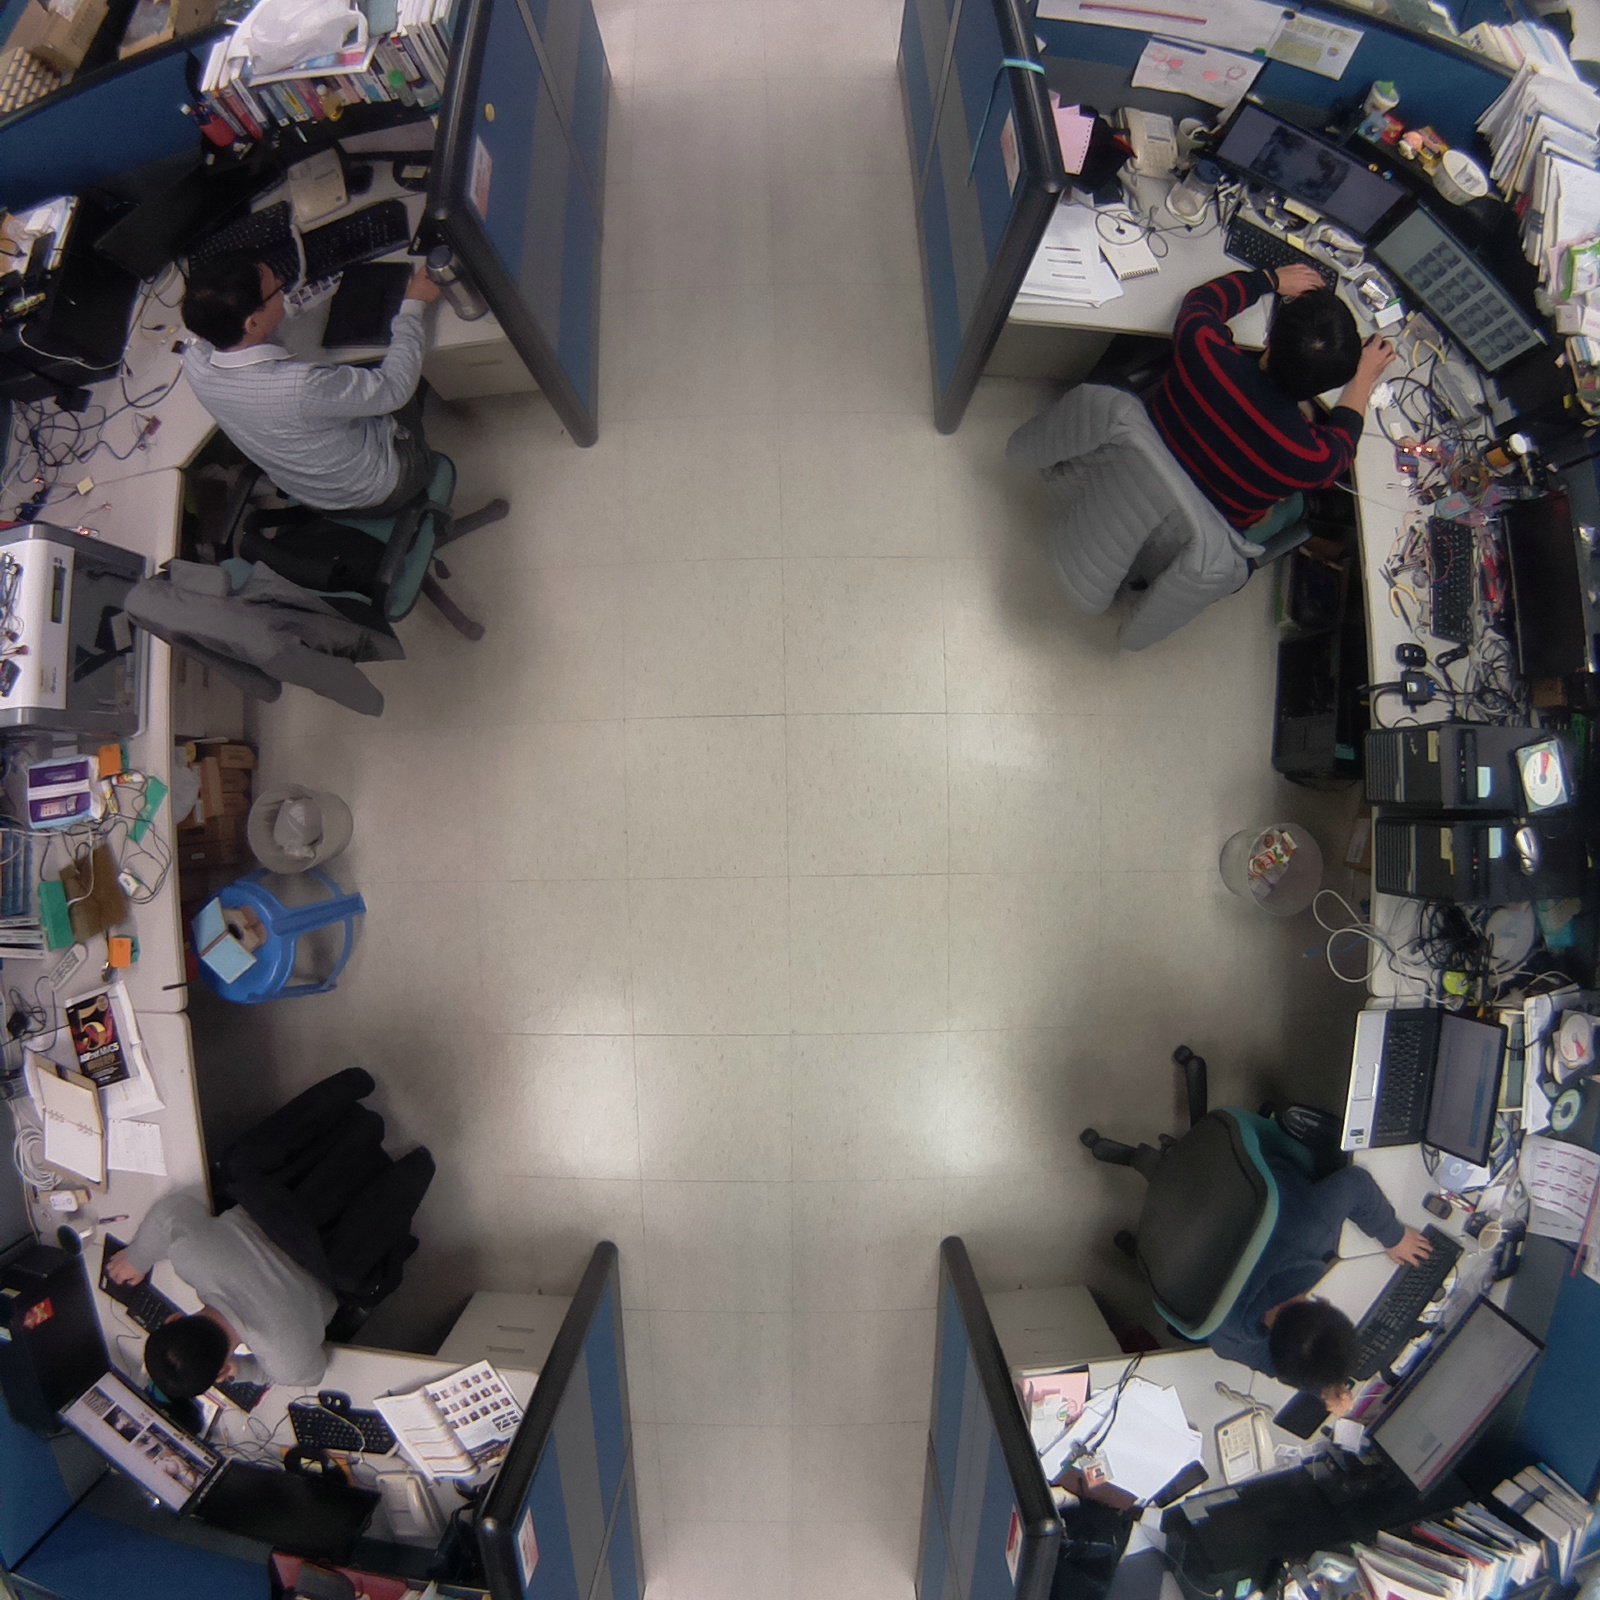head: (1255, 285, 1366, 400), (1255, 1287, 1363, 1400), (174, 246, 289, 351), (134, 1306, 240, 1404)
sitting: (112, 240, 522, 732), (994, 258, 1399, 665), (1058, 1037, 1442, 1424), (94, 1050, 447, 1417)
